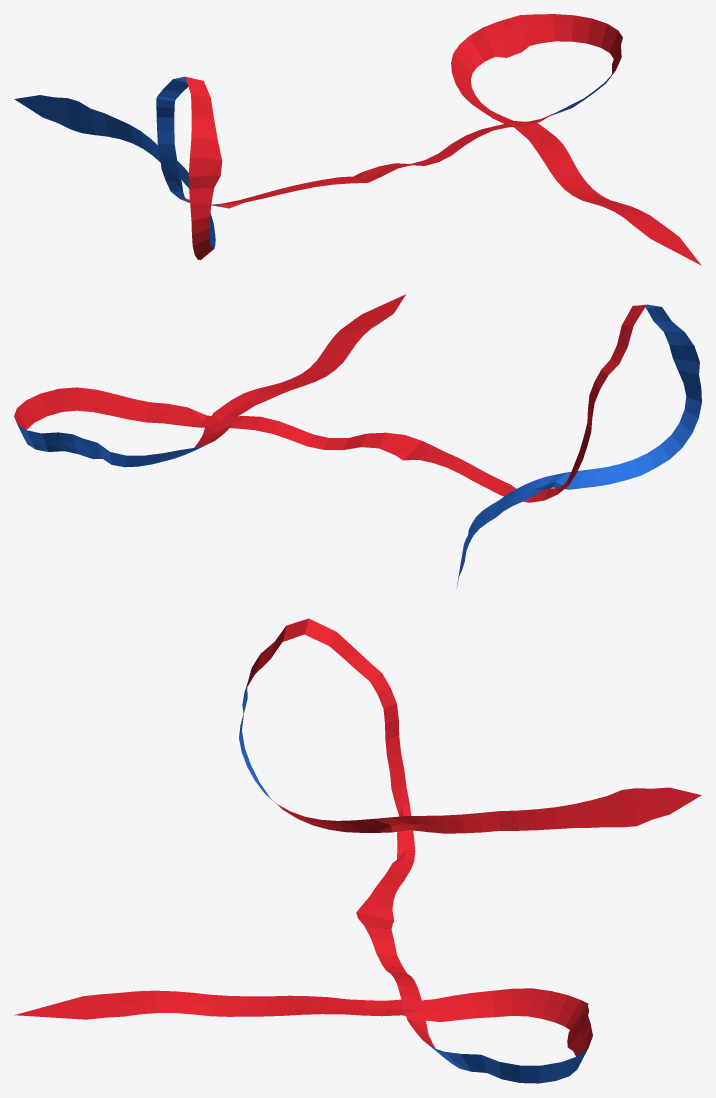
3 renders of one model, top to bottom at view 1: azimuth 30°, elevation 25°; view 2: azimuth 150°, elevation 25°; view 3: azimuth 270°, elevation 25°, orthographic. The views are drawn at different scales.
Visible parts, largest first — view 1: 721; view 2: 721; view 3: 721.
Boxes of the visible parts, x1=… form: 721: x1=14, y1=14, x2=701, y2=265; 721: x1=14, y1=294, x2=701, y2=587; 721: x1=14, y1=618, x2=701, y2=1083.
Size of the model in its own units: 1.74 by 0.5516 by 1.73.
